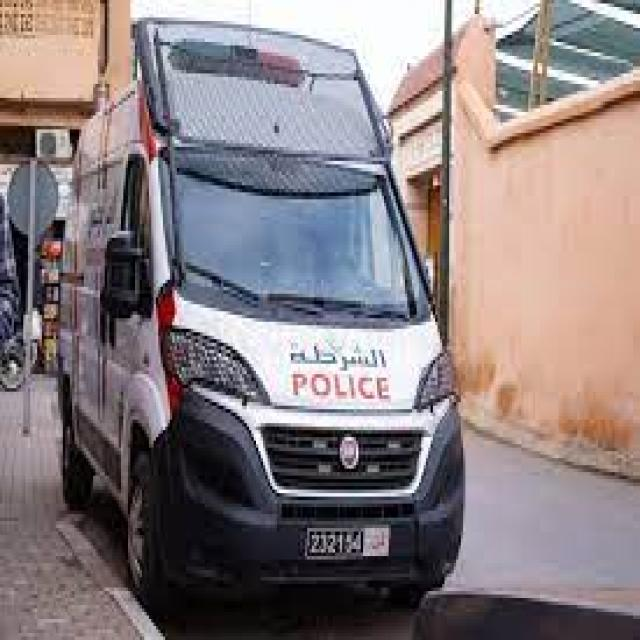Police car: (49, 5, 479, 640)
